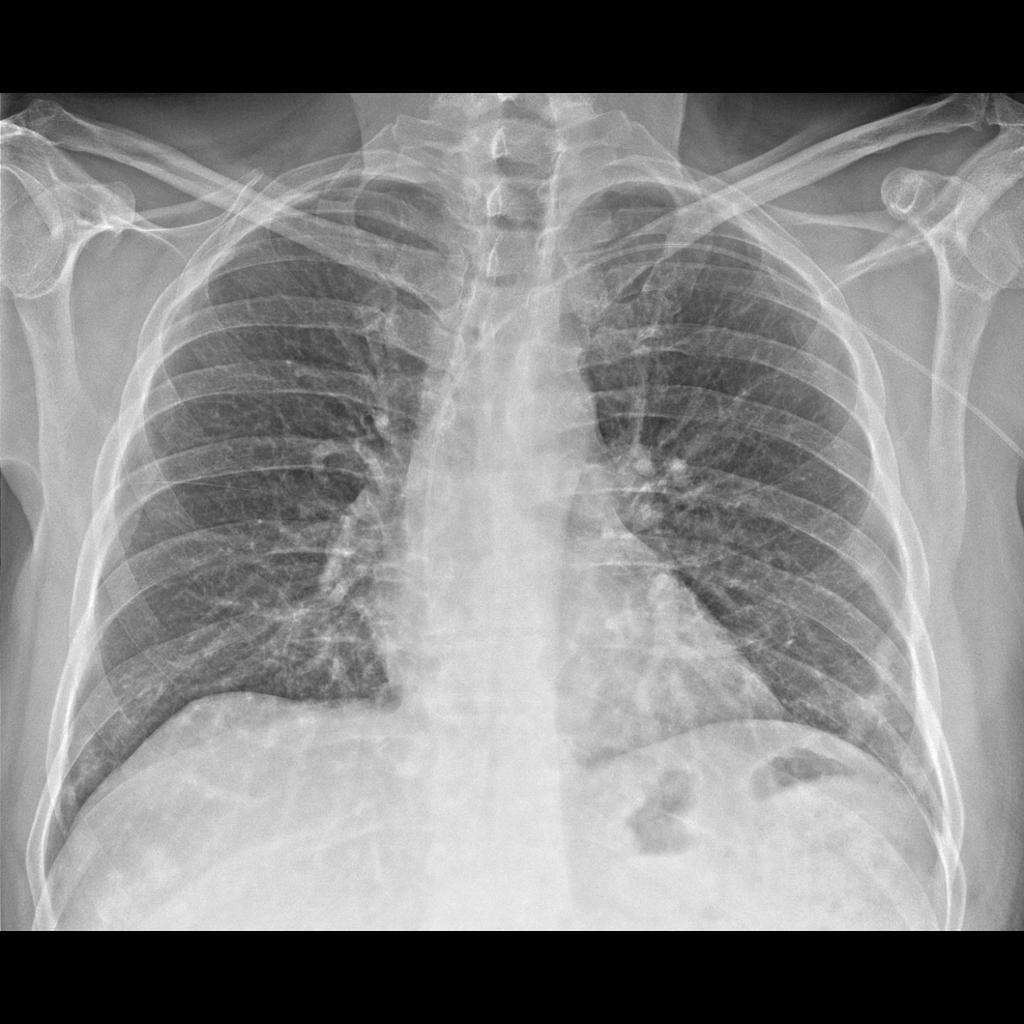Nodule: (832, 676, 897, 741)
